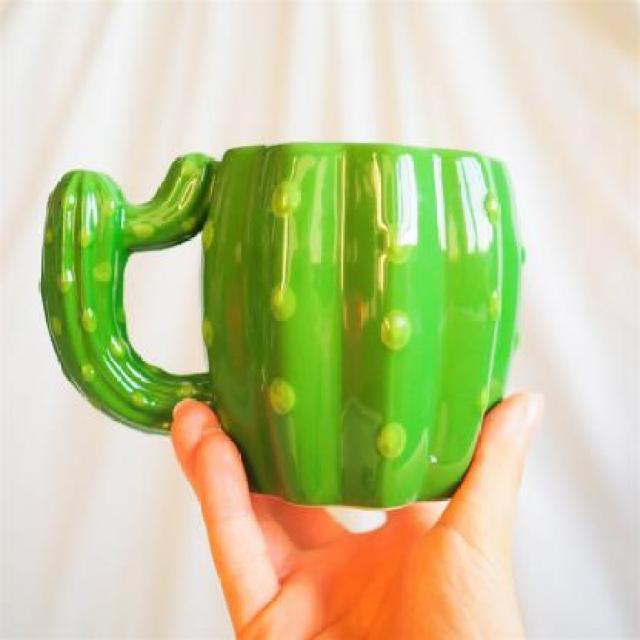taza: (33, 122, 530, 516)
